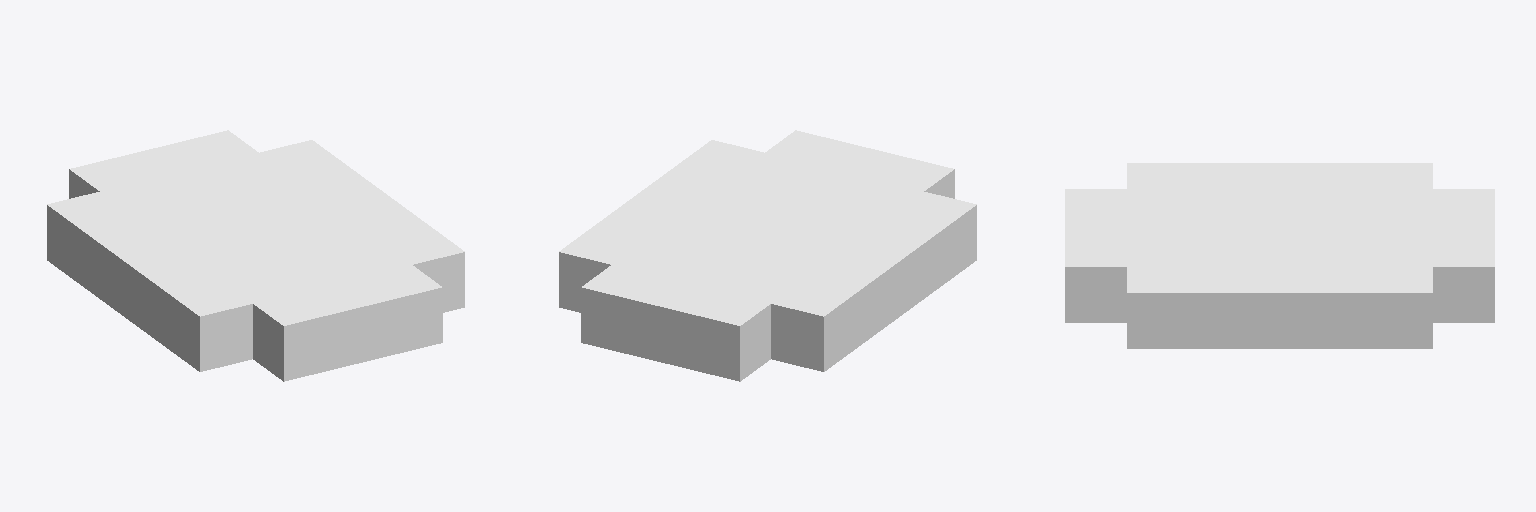
Rendered from COIN.obj.
The picture shows the model from 3 angles: view 1: azimuth 30°, elevation 25°; view 2: azimuth 150°, elevation 25°; view 3: azimuth 270°, elevation 25°; orthographic projection.
Visible parts, largest first — view 1: object 1; view 2: object 1; view 3: object 1.
Boxes of the visible parts, <box> form: object 1: <box>47,130,464,381</box>; object 1: <box>559,130,976,381</box>; object 1: <box>1065,163,1494,348</box>.
Size of the model in its own units: 0.5 by 0.1 by 0.7.